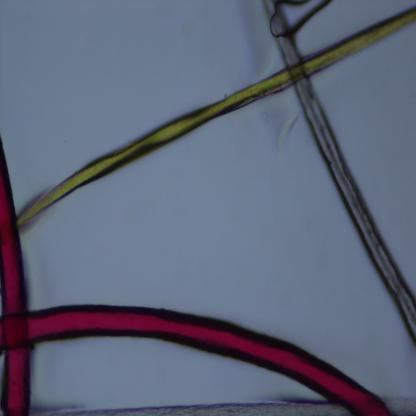Air bubble: (275, 2, 332, 34)
Microfibre: (16, 6, 416, 228), (263, 2, 416, 343), (0, 301, 389, 415), (31, 390, 416, 415), (0, 138, 32, 416)
